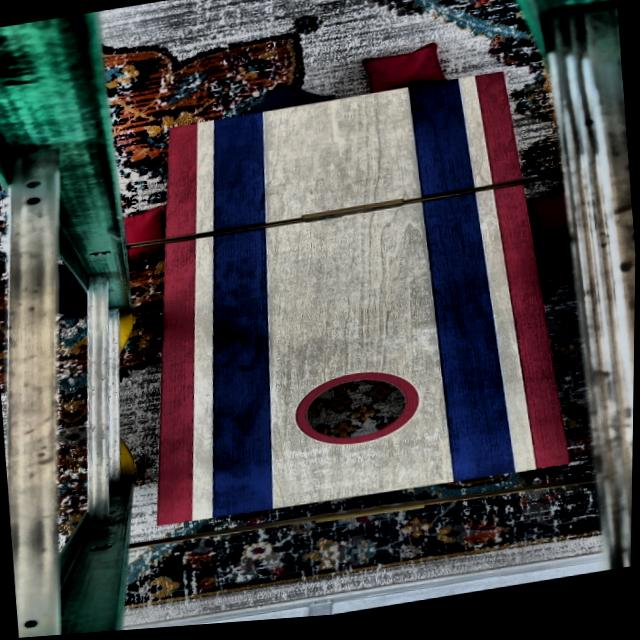blue-bean-bag: (239, 78, 336, 118), (55, 260, 88, 321), (537, 247, 569, 276)
board: (166, 80, 536, 526)
hole: (291, 369, 424, 458)
red-bean-bag: (359, 47, 445, 100), (120, 208, 169, 262), (524, 200, 567, 250)
